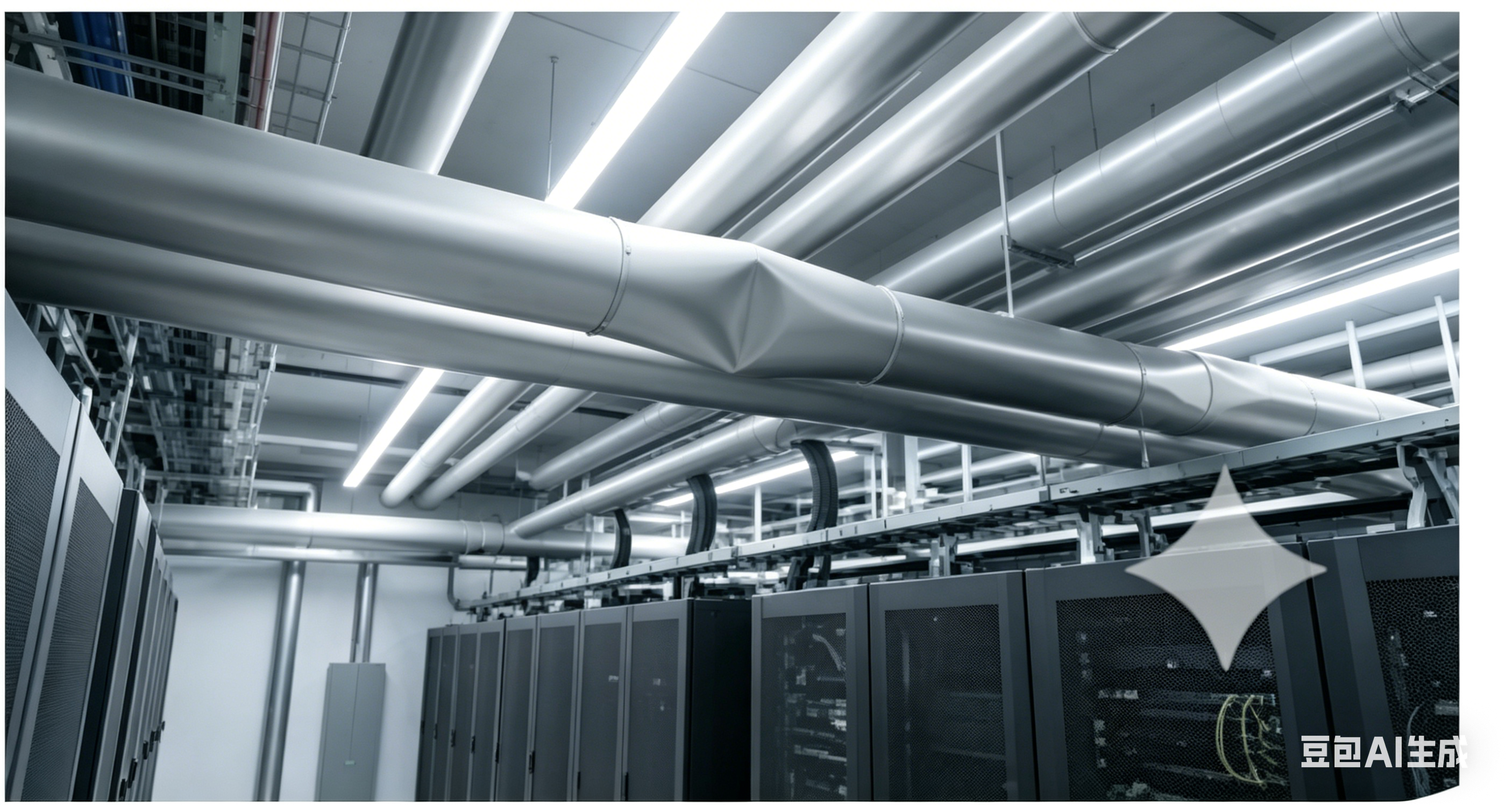Leakage: (662, 240, 838, 375)
